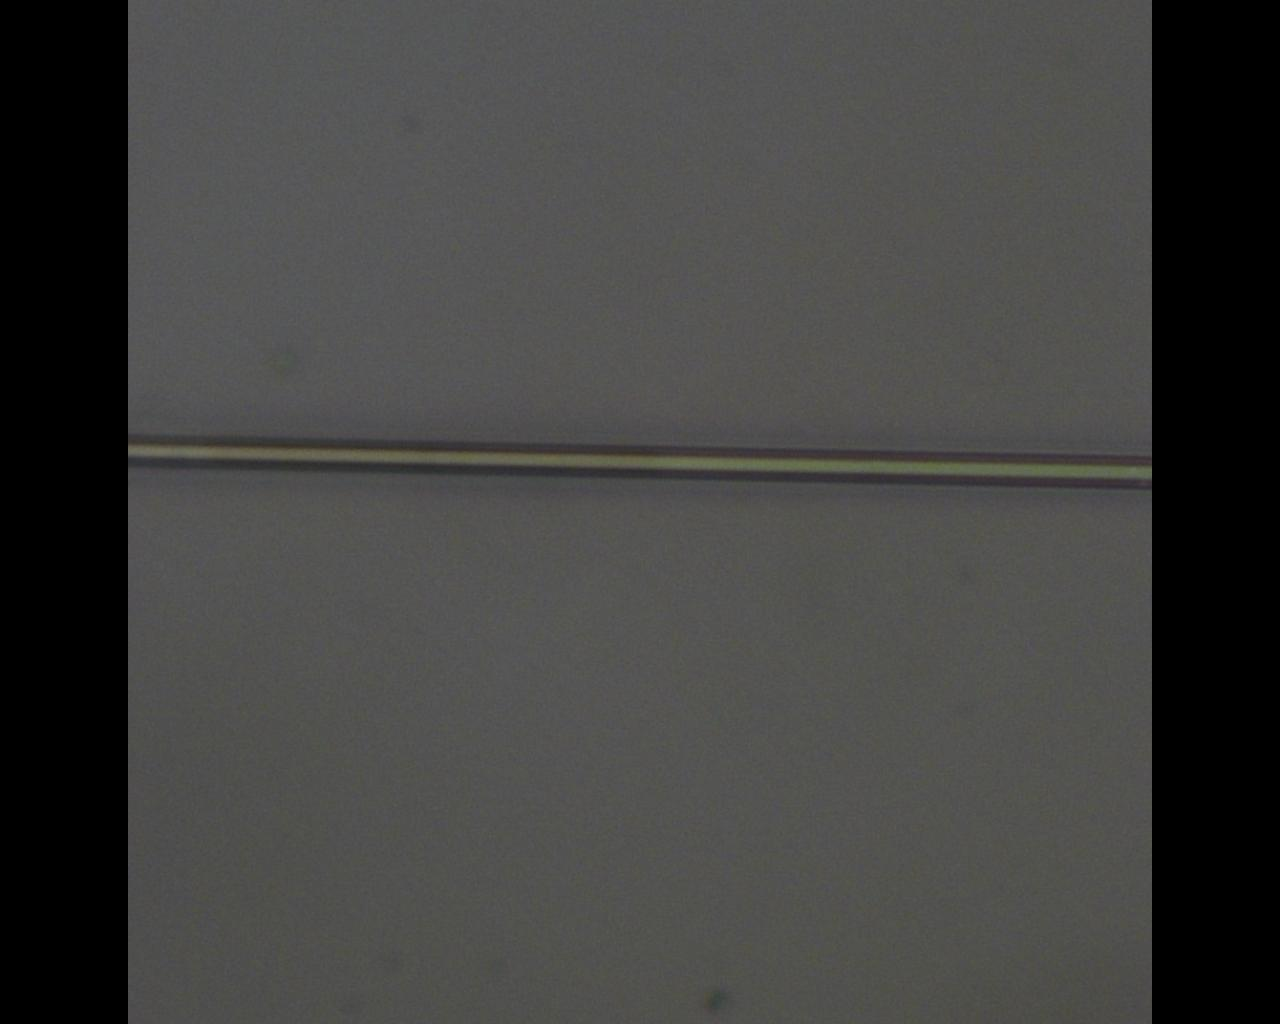fiber: (127, 241, 1151, 828)
